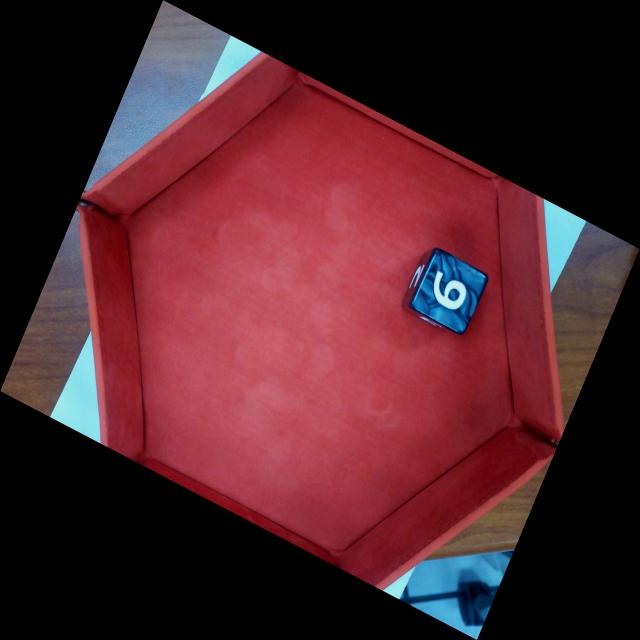dice: (418, 255, 486, 331)
